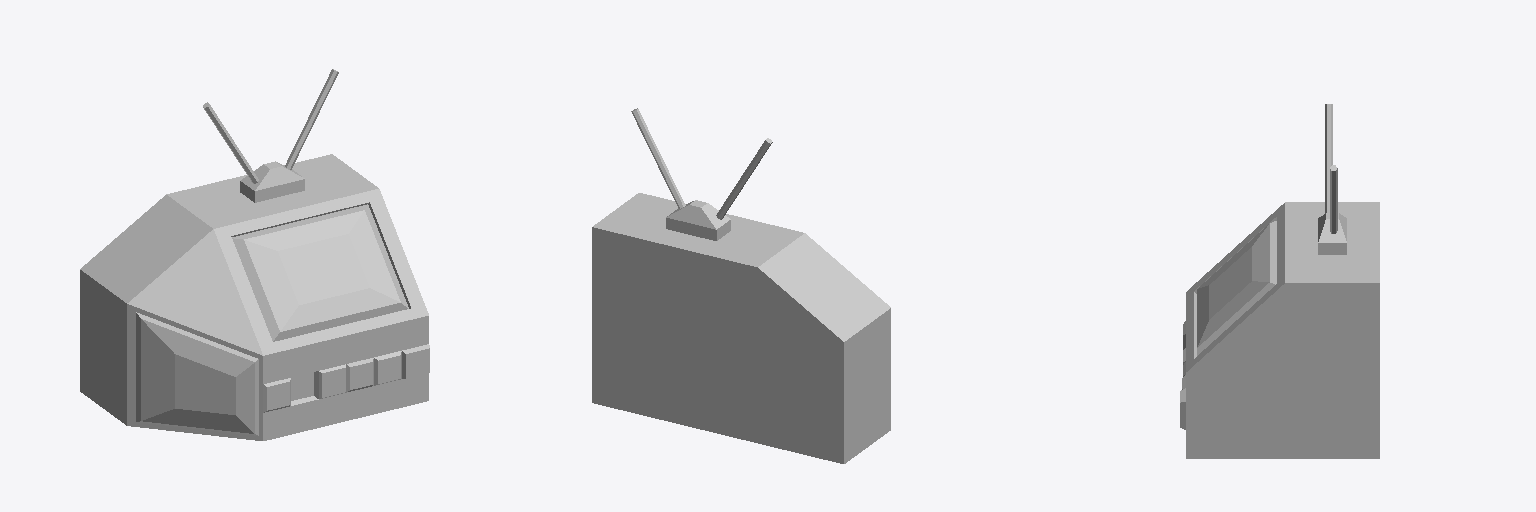
File: Radio.obj
3 renders of one model, left to right at view 1: azimuth 30°, elevation 25°; view 2: azimuth 150°, elevation 25°; view 3: azimuth 270°, elevation 25°, orthographic.
Parts seen in each view (by area): view 1: Cube_Cube.012; view 2: Cube_Cube.012; view 3: Cube_Cube.012.
Part boxes in pixels (left/top/right/bottom): Cube_Cube.012: left=80, top=69, right=429, bottom=440; Cube_Cube.012: left=592, top=108, right=890, bottom=463; Cube_Cube.012: left=1180, top=104, right=1379, bottom=458.
Size of the model in its own units: 0.225 by 0.2408 by 0.1543.